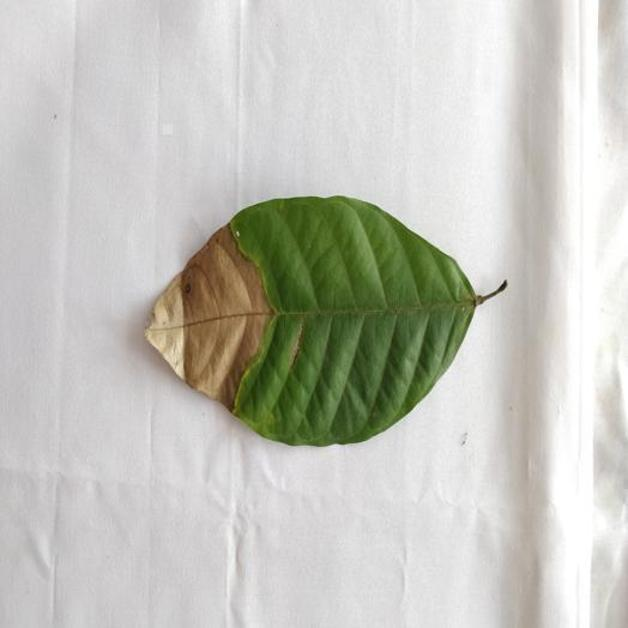Potassium: (146, 196, 506, 446)
